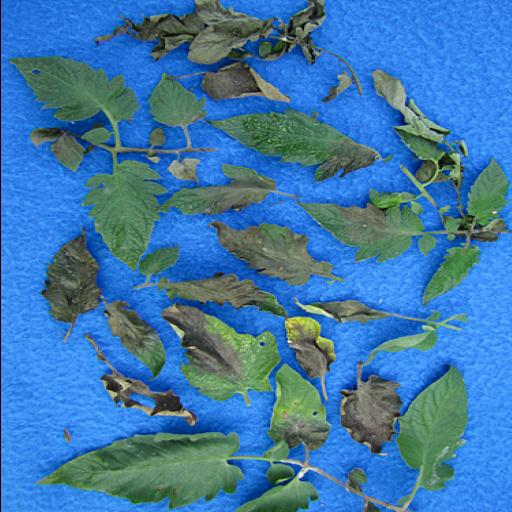Healthy: (78, 160, 168, 271), (10, 56, 142, 122)
Late Blight: (148, 305, 280, 407), (214, 108, 384, 182), (300, 198, 430, 266), (216, 220, 342, 288), (157, 268, 291, 324), (161, 165, 292, 217), (98, 297, 170, 388), (264, 366, 336, 454), (422, 238, 476, 306)
